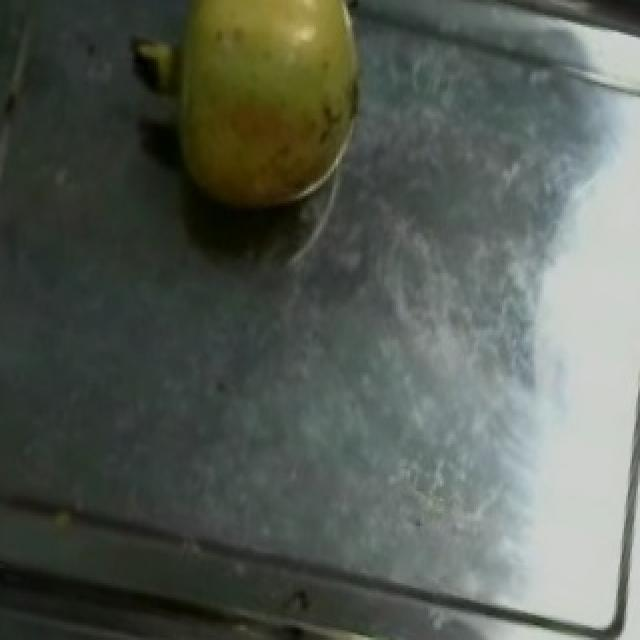fruit: (132, 0, 398, 241)
